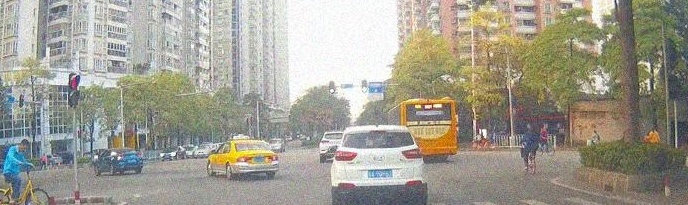L_light: (335, 151, 356, 161), (237, 156, 252, 162), (117, 155, 122, 160)
R_light: (402, 148, 421, 158), (268, 155, 278, 161), (137, 153, 141, 157)
T_light: (372, 131, 385, 133), (249, 142, 256, 144), (124, 149, 128, 150)
day-left: (232, 140, 279, 180), (115, 148, 143, 175)
day-no: (330, 126, 427, 205)
